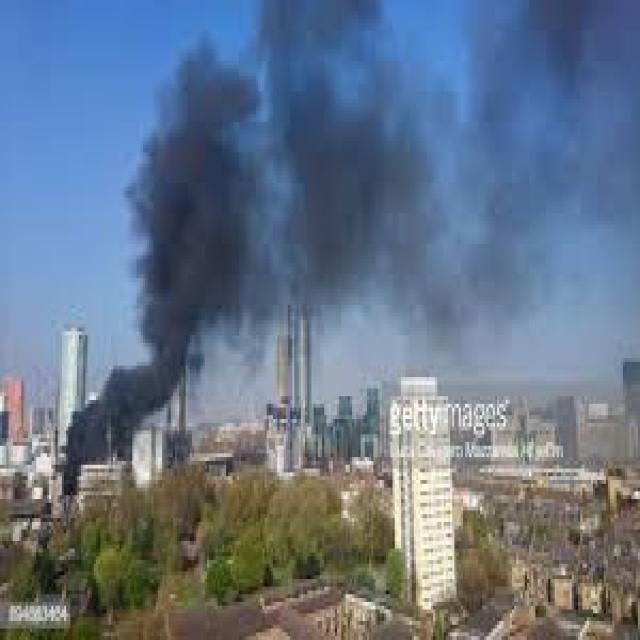Smoke: (61, 0, 640, 495)
